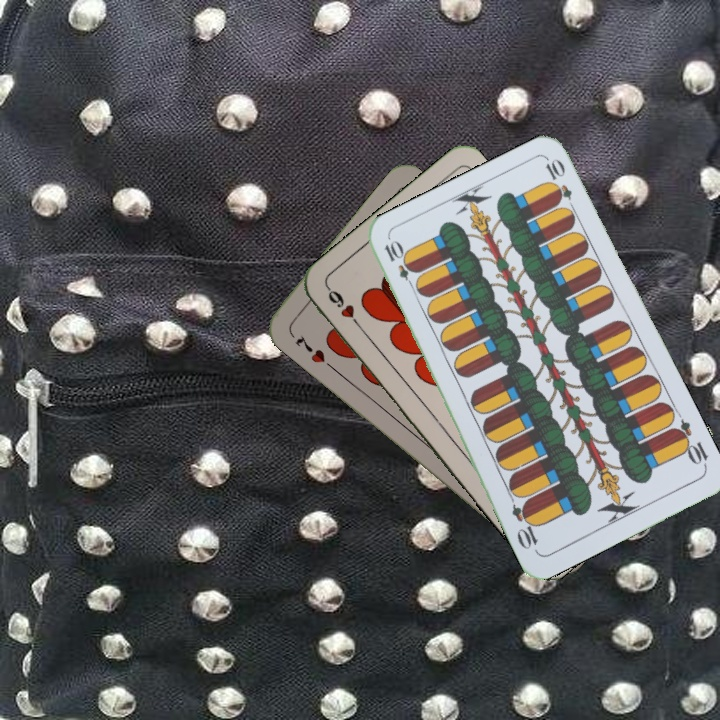E10: (668, 416, 711, 471), (380, 237, 419, 293)
H7: (291, 331, 328, 366)
H9: (323, 283, 366, 333)
